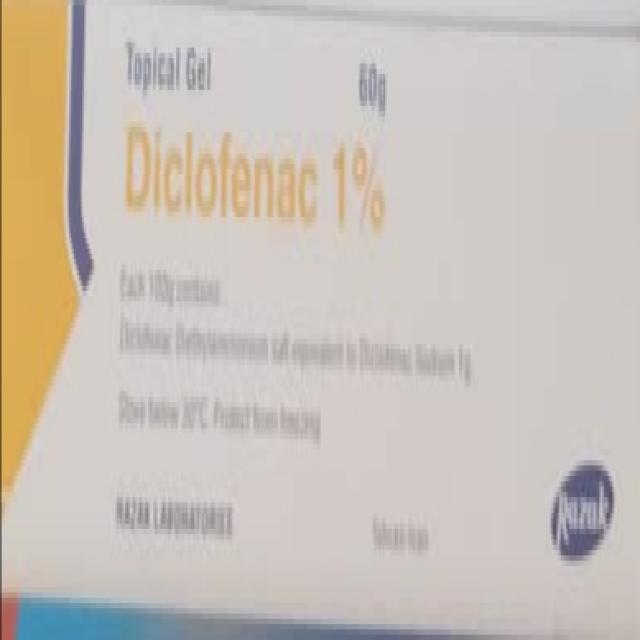drug-name: (122, 121, 393, 235)
